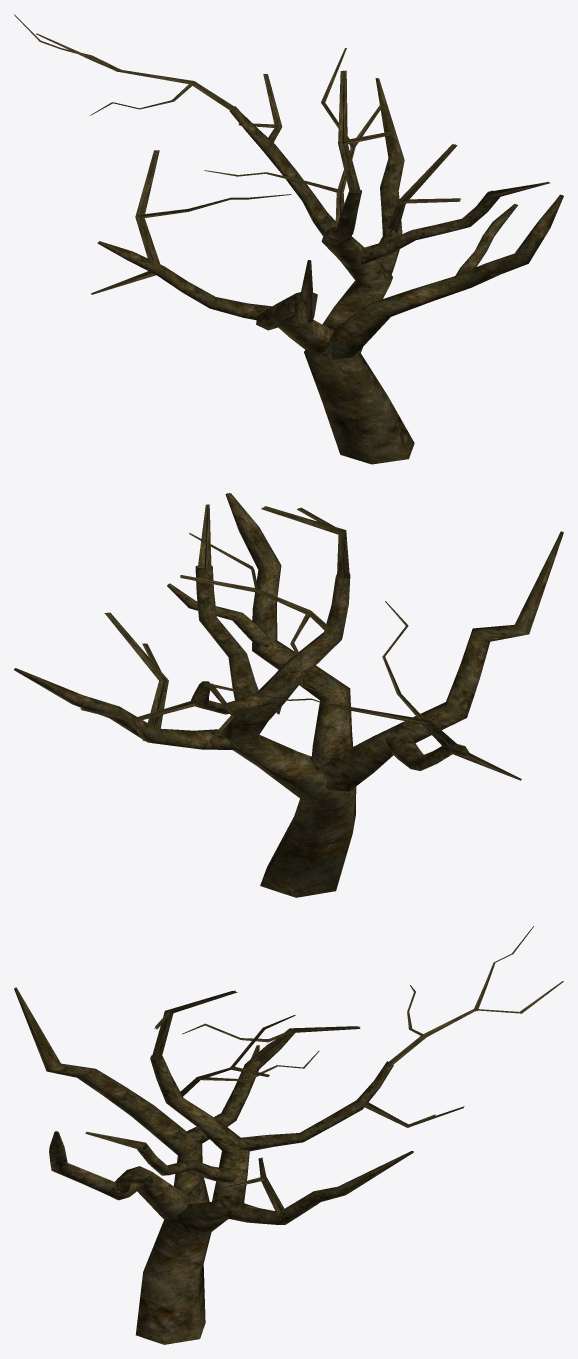
File: CB_BURNT_TREE02.fbx
3 renders of one model, top to bottom at view 1: azimuth 30°, elevation 25°; view 2: azimuth 150°, elevation 25°; view 3: azimuth 270°, elevation 25°, orthographic. The views are drawn at different scales.
Visible parts, largest first — view 1: CB_BURNT_TREE02; view 2: CB_BURNT_TREE02; view 3: CB_BURNT_TREE02.
Boxes of the visible parts, <box> form: CB_BURNT_TREE02: <box>14,14,563,464</box>; CB_BURNT_TREE02: <box>14,493,563,897</box>; CB_BURNT_TREE02: <box>14,926,563,1344</box>.
Size of the model in its own units: 80914 by 73921 by 109003.
Materials: 1 (1 with a texture image).
